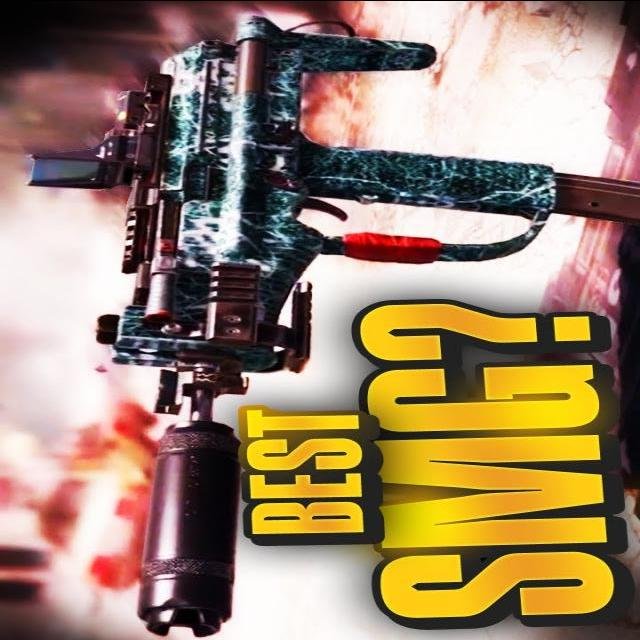scope: (18, 80, 151, 191)
smg: (87, 10, 629, 639)
